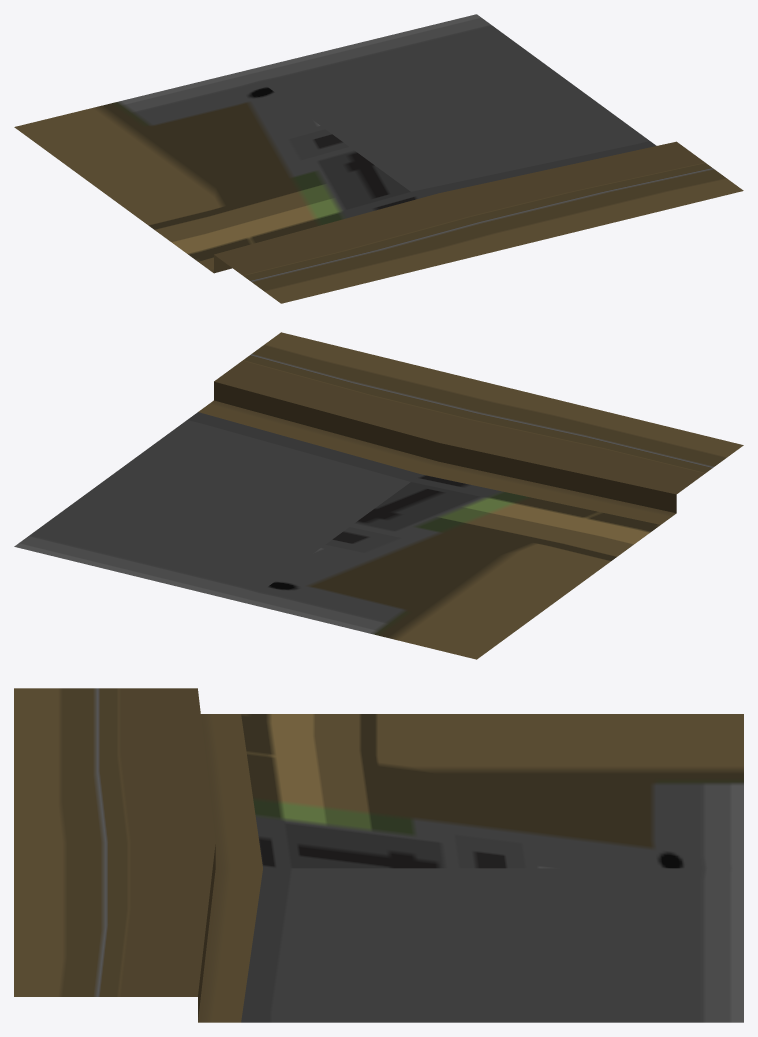
Rendered from SM_Env_Road_Dirt_Asphalt_Transition_01.gltf.
3 views of the same model, one above another, from view 1: azimuth 30°, elevation 25°; view 2: azimuth 150°, elevation 25°; view 3: azimuth 270°, elevation 25° (orthographic). The views are drawn at different scales.
Visible parts, largest first — view 1: SM_Env_Road_Dirt_Asphalt_Transition_01; view 2: SM_Env_Road_Dirt_Asphalt_Transition_01; view 3: SM_Env_Road_Dirt_Asphalt_Transition_01.
Boxes of the visible parts, x1,y1,x2,y2 form: SM_Env_Road_Dirt_Asphalt_Transition_01: (14,14,743,303); SM_Env_Road_Dirt_Asphalt_Transition_01: (14,332,743,659); SM_Env_Road_Dirt_Asphalt_Transition_01: (14,688,743,1022).
Size of the model in its own units: 5 by 0.1948 by 5.
1 material, 1 textured.
